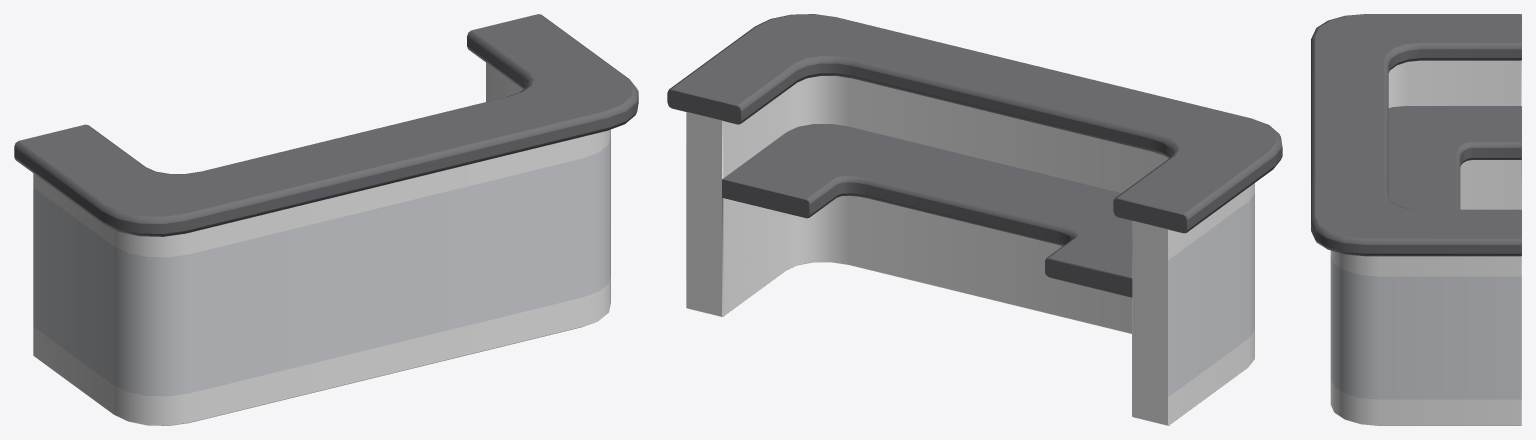
The model's file is Reception.fbx.
The picture shows the model from 3 angles, left to right: view 1: azimuth 30°, elevation 25°; view 2: azimuth 150°, elevation 25°; view 3: azimuth 270°, elevation 25°; orthographic projection. The views are drawn at different scales.
Parts seen in each view (by area): view 1: Reception; view 2: Reception; view 3: Reception.
Part boxes in pixels (left/top/right/bottom): Reception: left=14, top=14, right=638, bottom=425; Reception: left=667, top=14, right=1282, bottom=425; Reception: left=1311, top=14, right=1521, bottom=425.
Bounding box in the file's own units: 2.78 × 1.1 × 1.09.
